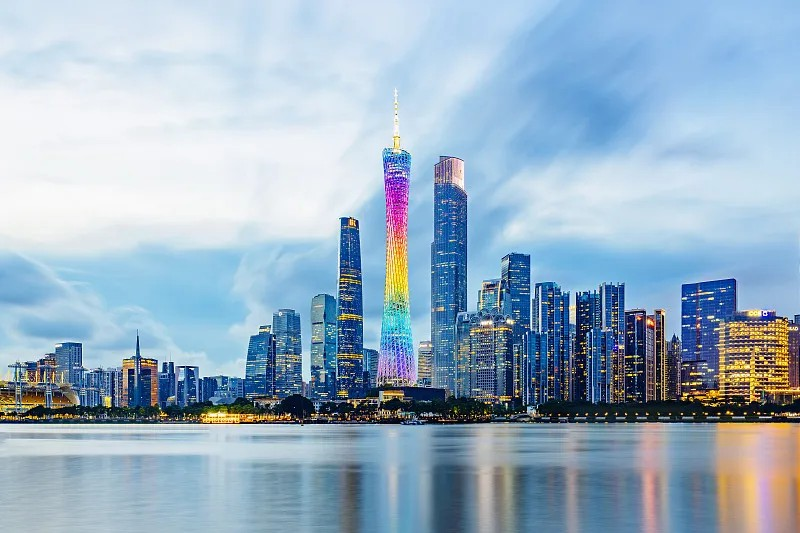Canton: (375, 87, 416, 387)
